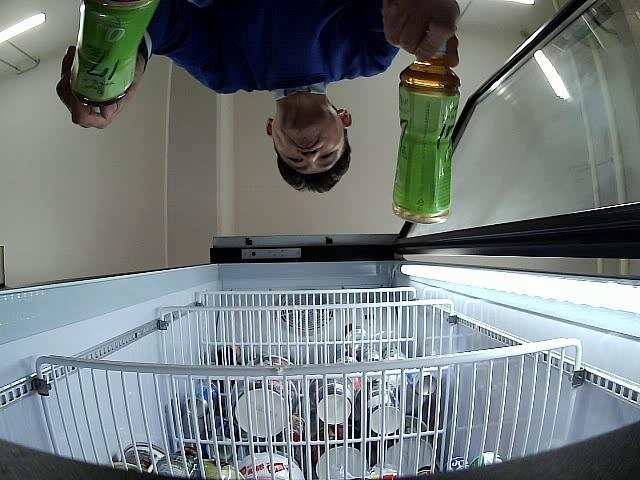19_17cha: (392, 34, 462, 225), (70, 2, 156, 102)
